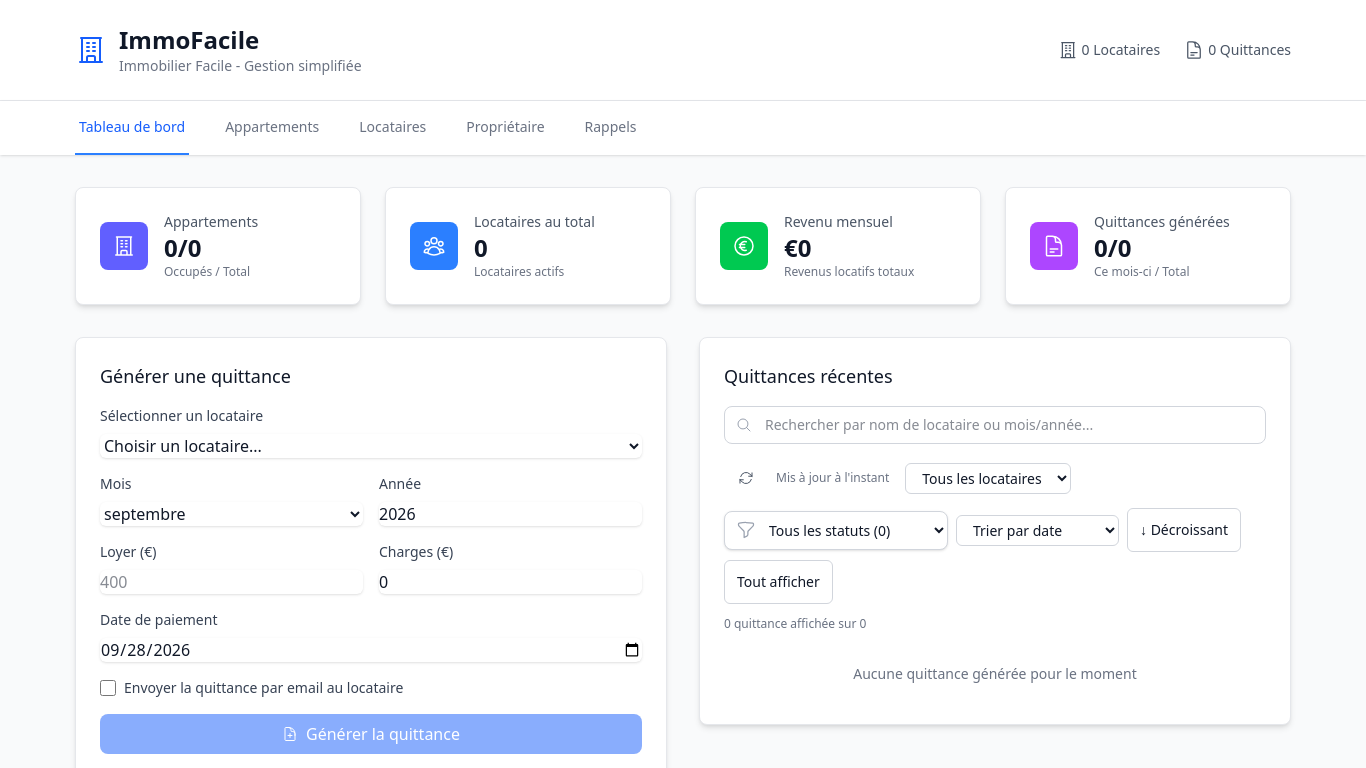
Test: dirty-form navigation gate (#113) › asks for confirmation before switching tabs while a form is dirty
Click the link "Appartements": click(272, 126) [225, 117, 319, 136]
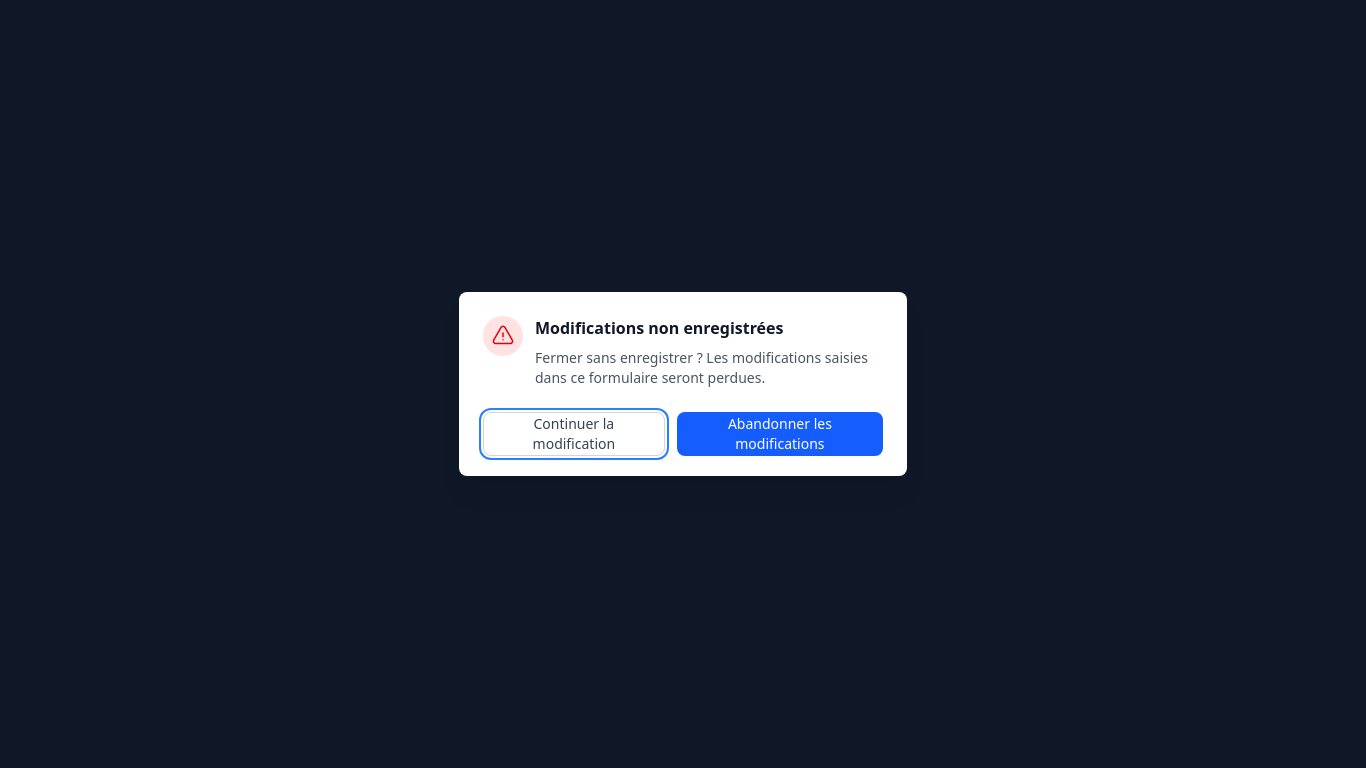
Now the dialog with test id "confirm-dialog" is shown
# Continuing the edit just closes the dialog — no navigation
Click the button "Continuer la modification": click(574, 434) [483, 412, 665, 456]
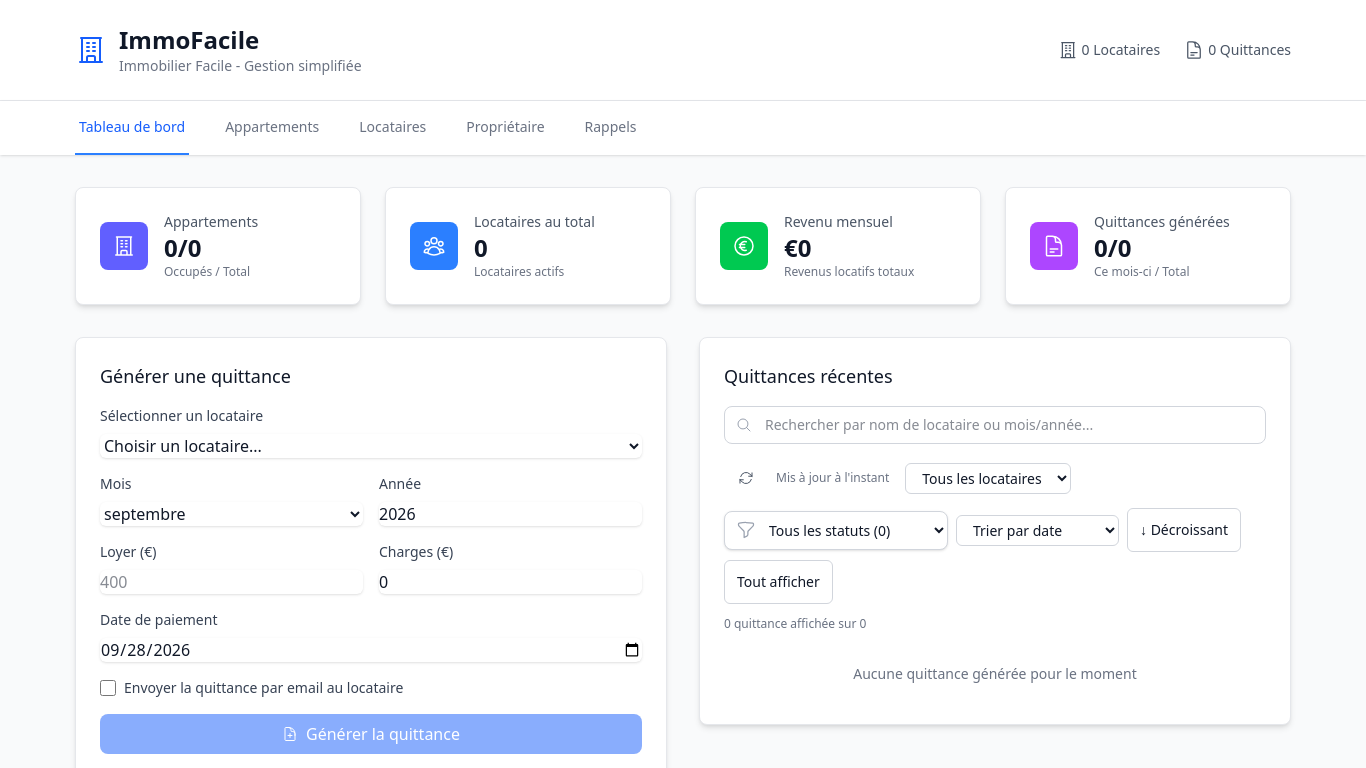
Now the dialog with test id "confirm-dialog" is gone
